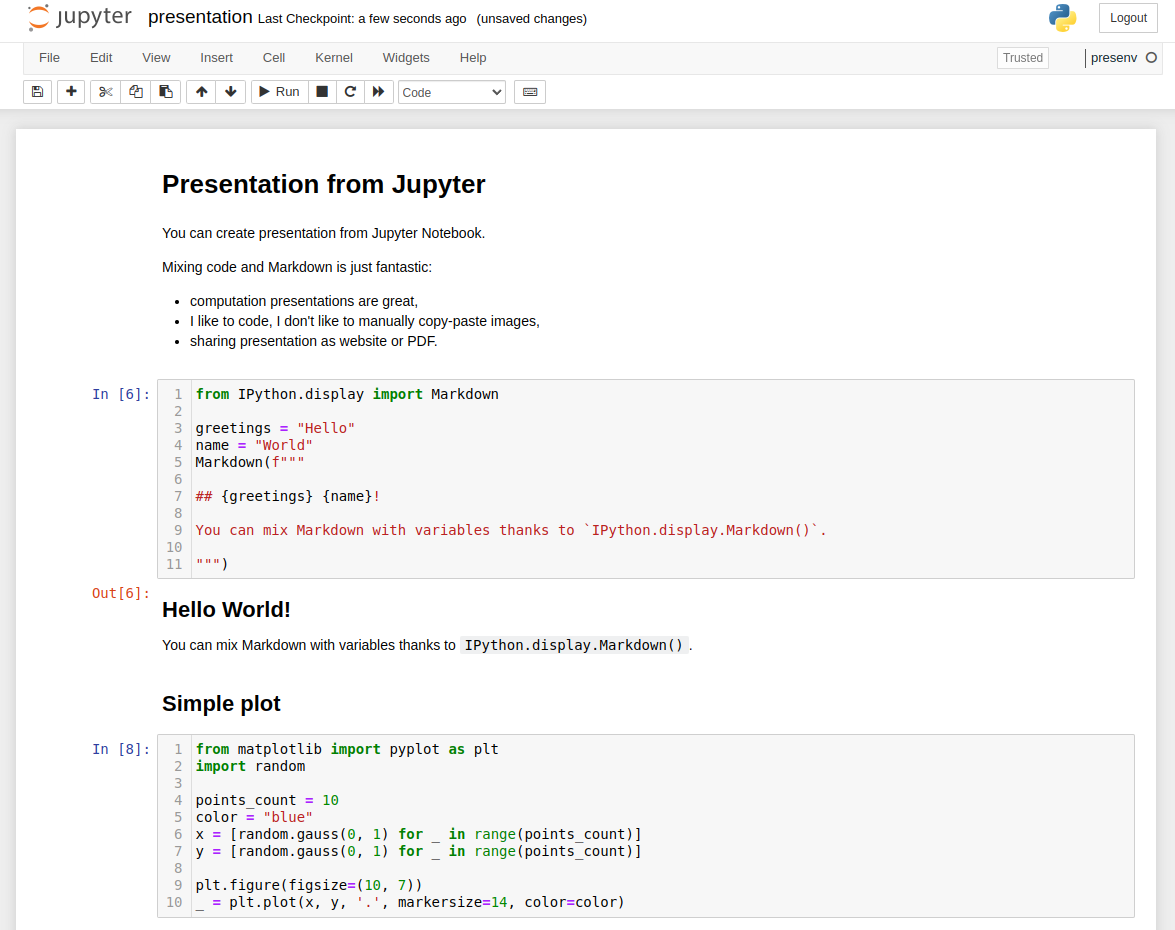Markdown: (234, 634, 312, 661)
{greetings}: (217, 482, 315, 506)
